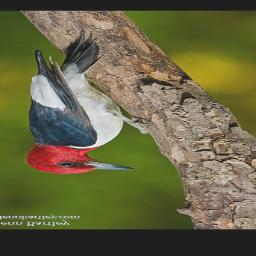Woodpecker: (18, 27, 159, 173)
